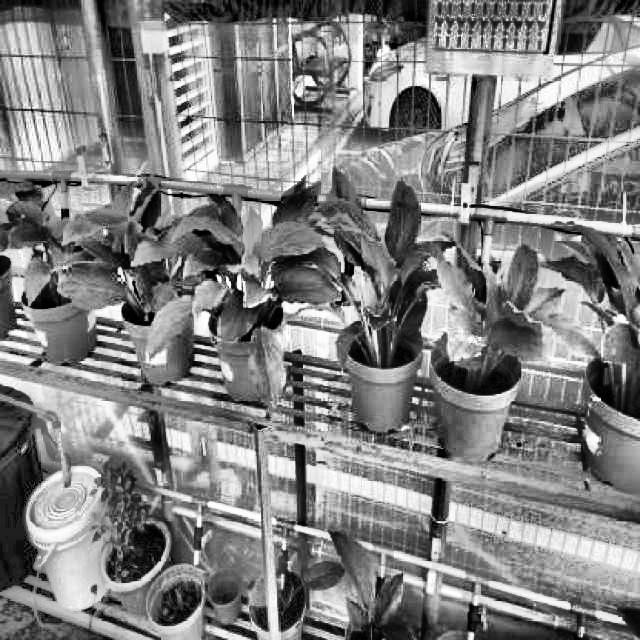plants: (132, 172, 342, 417), (294, 162, 458, 373), (432, 228, 600, 390), (540, 221, 640, 421), (0, 166, 134, 312)
